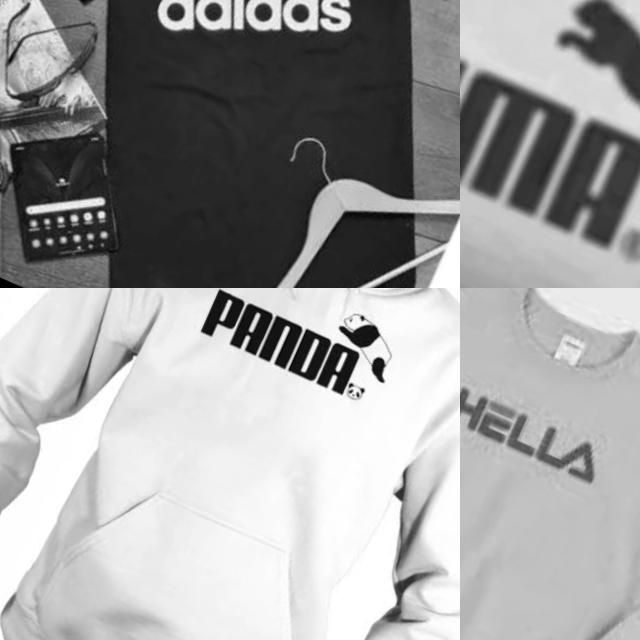ADIDAS_original: (140, 0, 402, 104)
FILA_fake: (460, 342, 640, 512)
PUMA_fake: (460, 0, 640, 288), (168, 288, 435, 446)
